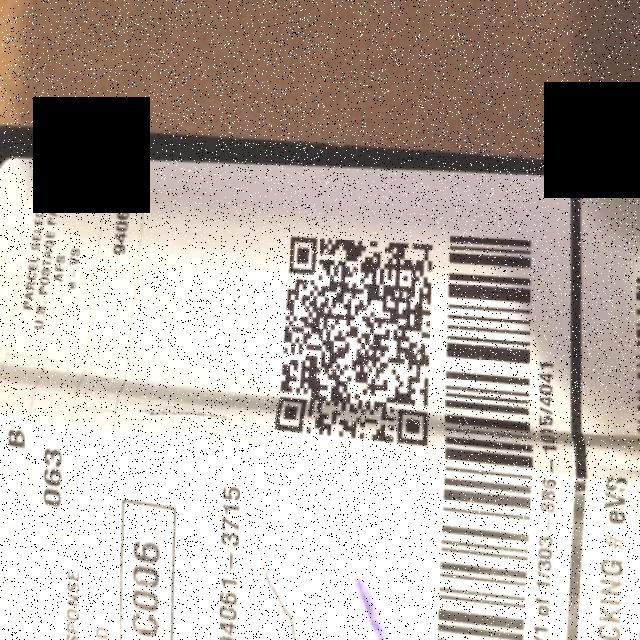QR_CODE: (266, 208, 436, 466)
